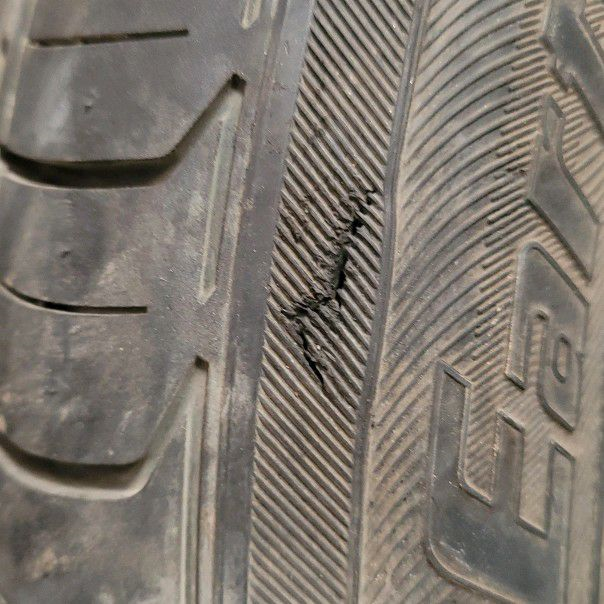cut: (279, 189, 376, 389)
